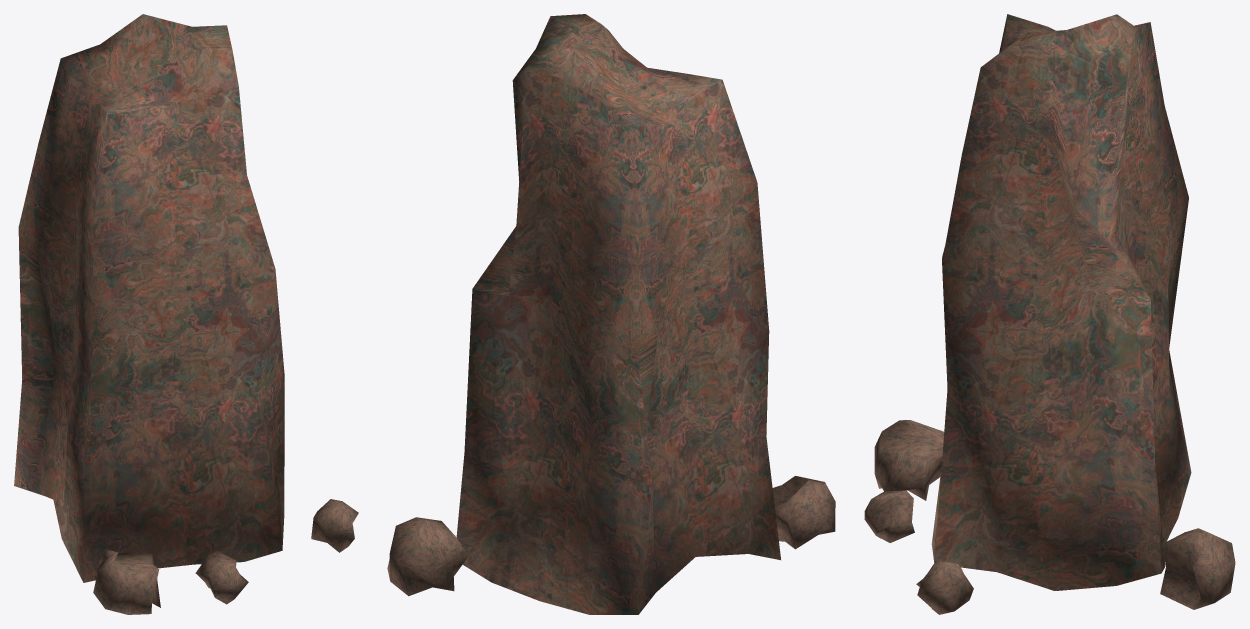
Rendered from cave_objects_rubble4.glb.
The picture shows the model from 3 angles, left to right: view 1: azimuth 30°, elevation 25°; view 2: azimuth 150°, elevation 25°; view 3: azimuth 270°, elevation 25°; orthographic projection. The views are drawn at different scales.
Visible parts, largest first — view 1: rubble4; view 2: rubble4; view 3: rubble4.
Boxes of the visible parts, x1,y1,x2,y2 form: rubble4: (14, 14, 358, 614); rubble4: (387, 14, 835, 614); rubble4: (864, 14, 1235, 614).
Bounding box in the file's own units: 1.8 × 3.14 × 1.95.
1 material, 1 textured.
